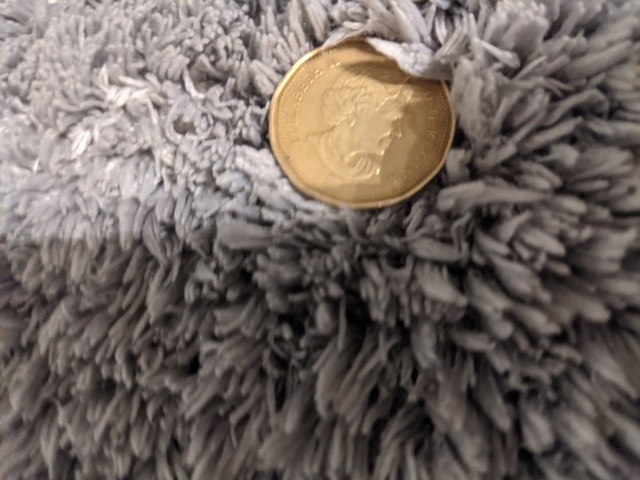loonie: (258, 30, 481, 218)
